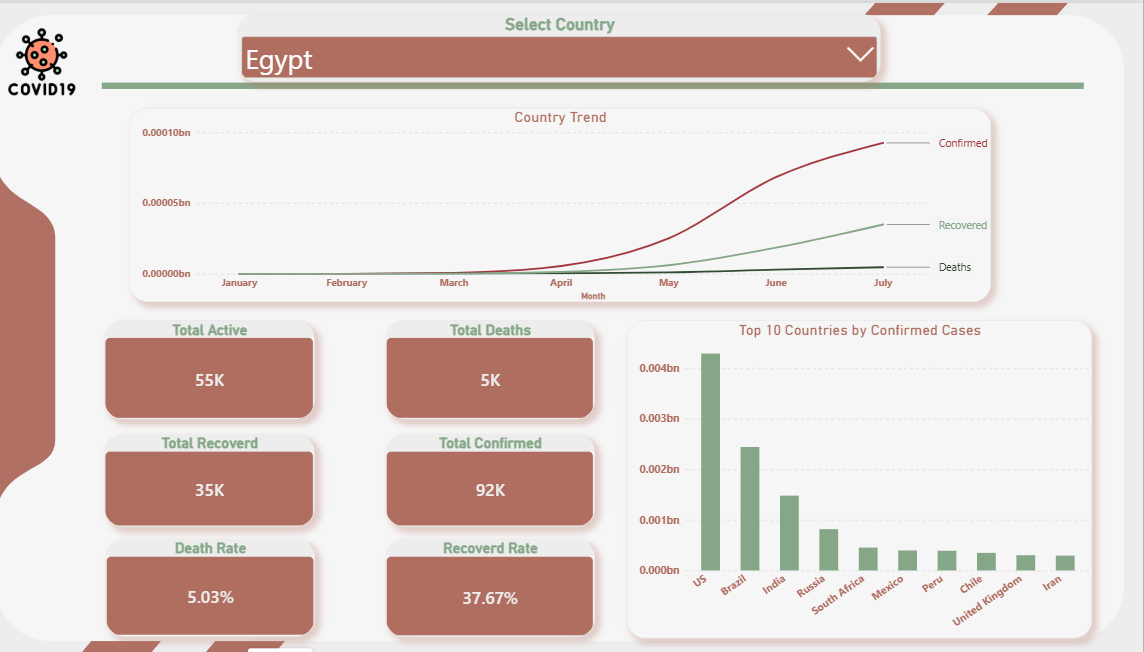

The page's visual inventory and layout, read from the dashboard file:
{"tool":"powerbi","page":{"name":"Page 2","canvas":[1920,1080],"ordinal":1},"visuals":[{"type":"cardVisual","title":"Total Confirmed","fields":{"Data":["full_grouped.Total Confirmed"]},"box":[673.1,710.1,343.7,152.3],"z":0},{"type":"cardVisual","title":"Recoverd Rate","fields":{"Data":["full_grouped.Recoverd Rate"]},"box":[673.1,883,343.7,160.5],"z":1000},{"type":"cardVisual","title":"Death Rate","fields":{"Data":["full_grouped.Death Rate"]},"box":[212,883,344,160],"z":3000},{"type":"image","box":[51.7,0,110,193.3],"z":4000},{"type":"cardVisual","title":"Total Deaths","fields":{"Data":["full_grouped.Total Deaths"]},"box":[673.1,522.8,343.7,162.6],"z":6000},{"type":"cardVisual","title":"Total Active","fields":{"Data":["full_grouped.Total Active"]},"box":[209.9,522.8,345.8,162.6],"z":7000},{"type":"cardVisual","title":"Total Recoverd","fields":{"Data":["full_grouped.Total Recovered"]},"box":[209.9,710.1,345.8,152.3],"z":8000},{"type":"slicer","title":"Select Country","fields":{"Values":["full_grouped.Country/Region"]},"box":[430.2,18.5,1058,111.1],"z":9000},{"type":"lineStackedColumnComboChart","title":"Top 10 Countries by Confirmed Cases","fields":{"Category":["country_wise_latest.Country/Region"],"Y":["Max(country_wise_latest.Confirmed)"]},"box":[1070.3,522.8,765.7,522.8],"z":10000},{"type":"lineChart","title":"Country Trend","fields":{"Category":["full_grouped.Date.Variation.Date Hierarchy.Month"],"Y":["Max(full_grouped.Confirmed)","Max(full_grouped.Deaths)","Max(full_grouped.Recovered)"]},"box":[251.1,172.9,1418.2,319],"z":10001}]}

Visuals, with their boxes in screenshot pixels (x1, y1, x2, y2), scaled from the page's 1920x1080 canvas onto the 1144x652 screenshot:
"Total Confirmed" cardVisual: pyautogui.locateOnScreen(401, 429, 606, 521)
"Recoverd Rate" cardVisual: pyautogui.locateOnScreen(401, 533, 606, 630)
"Death Rate" cardVisual: pyautogui.locateOnScreen(126, 533, 331, 630)
image: pyautogui.locateOnScreen(31, 0, 96, 117)
"Total Deaths" cardVisual: pyautogui.locateOnScreen(401, 316, 606, 414)
"Total Active" cardVisual: pyautogui.locateOnScreen(125, 316, 331, 414)
"Total Recoverd" cardVisual: pyautogui.locateOnScreen(125, 429, 331, 521)
"Select Country" slicer: pyautogui.locateOnScreen(256, 11, 887, 78)
"Top 10 Countries by Confirmed Cases" lineStackedColumnComboChart: pyautogui.locateOnScreen(638, 316, 1094, 631)
"Country Trend" lineChart: pyautogui.locateOnScreen(150, 104, 995, 297)
